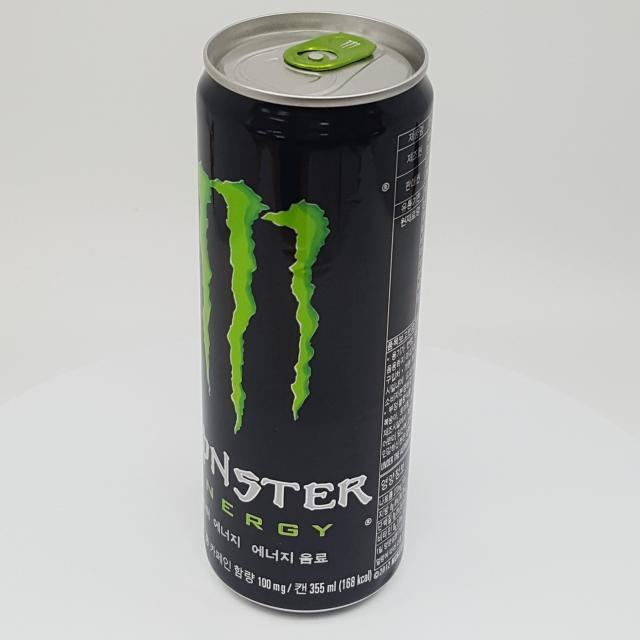--------355ML: (196, 11, 433, 613)
